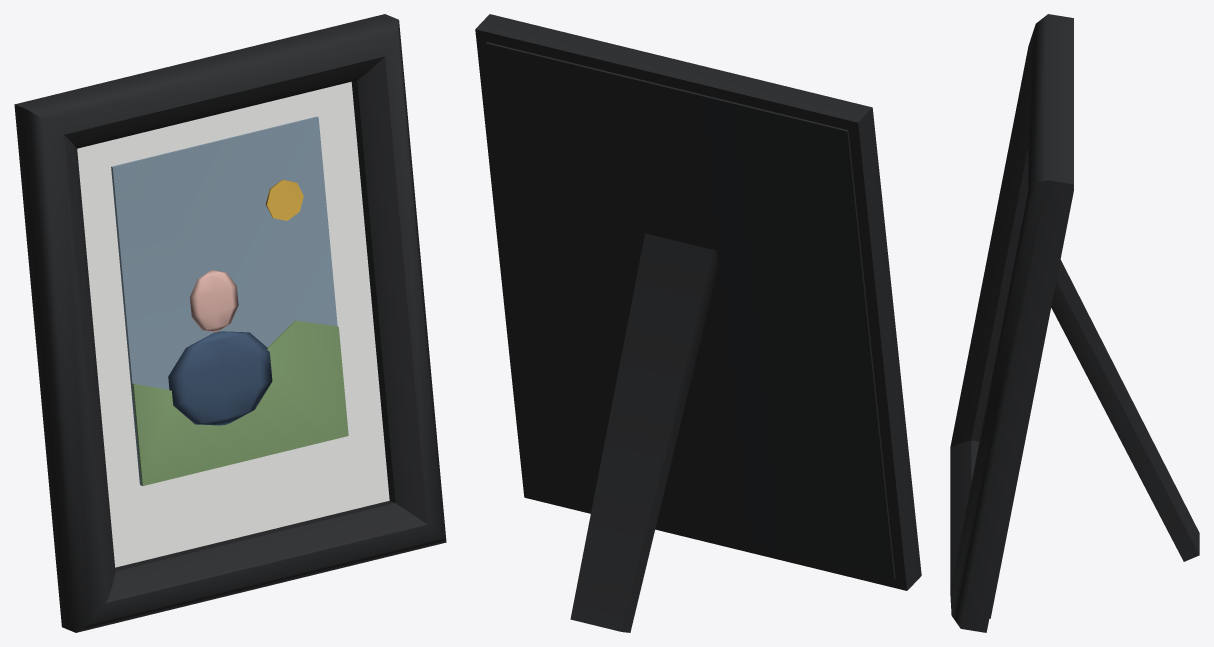
File: photoFrame.glb
3 renders of one model, left to right at view 1: azimuth 30°, elevation 25°; view 2: azimuth 150°, elevation 25°; view 3: azimuth 270°, elevation 25°, orthographic. The views are drawn at different scales.
Visible parts, largest first — view 1: photoFrame; view 2: photoFrame; view 3: photoFrame.
Part boxes in pixels (<box>): photoFrame: <box>14,14,446,632</box>; photoFrame: <box>475,14,921,632</box>; photoFrame: <box>950,14,1199,632</box>.
Size of the model in its own units: 0.18 by 0.2291 by 0.1142.
